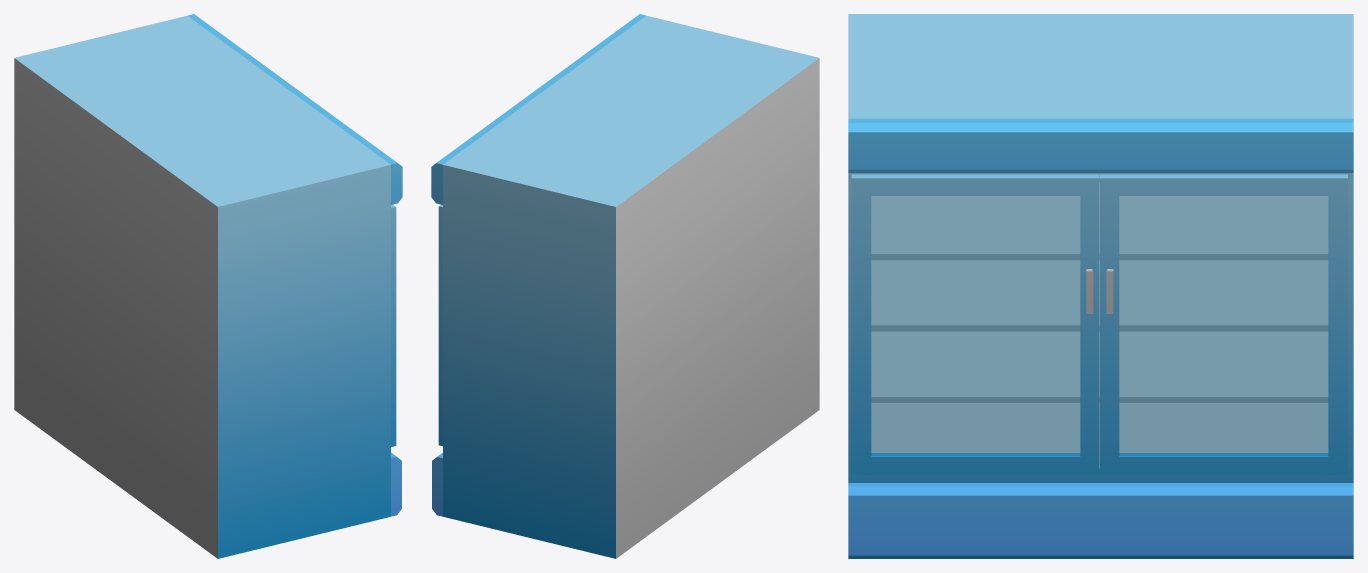
Rendered from fridge_double_blue.fbx.
3 views of the same model, side by side, from view 1: azimuth 30°, elevation 25°; view 2: azimuth 150°, elevation 25°; view 3: azimuth 270°, elevation 25° (orthographic). The views are drawn at different scales.
Parts seen in each view (by area): view 1: fridge_double_blue, fridge_door_double_blue02; view 2: fridge_double_blue, fridge_door_double_blue01; view 3: fridge_double_blue, fridge_door_double_blue02, fridge_door_double_blue01.
Part boxes in pixels (x1,y1,x2,y2): fridge_double_blue: (14, 14, 402, 558); fridge_door_double_blue02: (391, 204, 396, 446); fridge_double_blue: (431, 14, 819, 558); fridge_door_double_blue01: (438, 204, 442, 446); fridge_double_blue: (848, 14, 1353, 558); fridge_door_double_blue02: (851, 174, 1099, 474); fridge_door_double_blue01: (1100, 174, 1347, 474).
Bounding box in the file's own units: 680 × 1238 × 1298.
